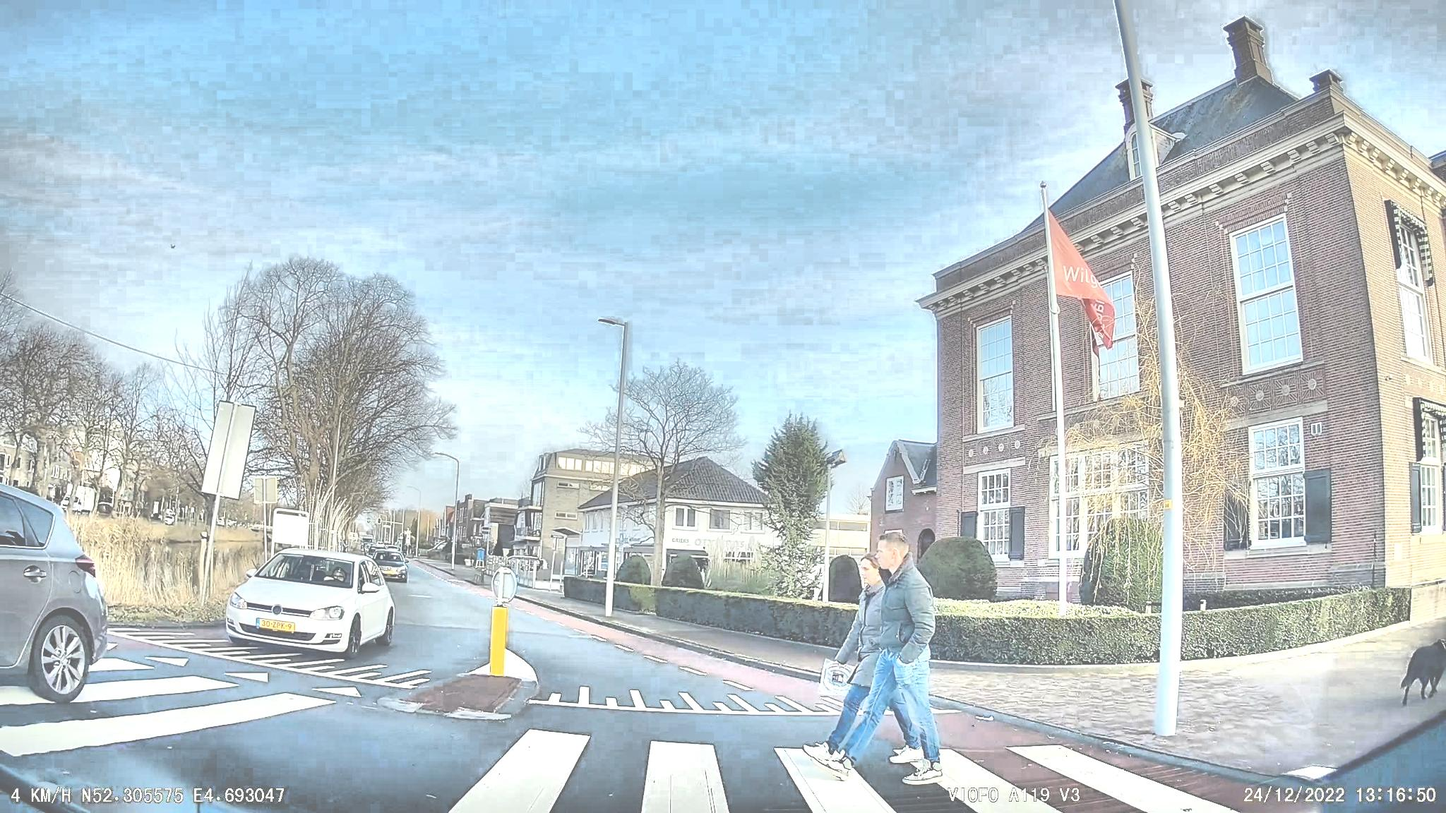Roads: (0, 581, 1446, 813)
